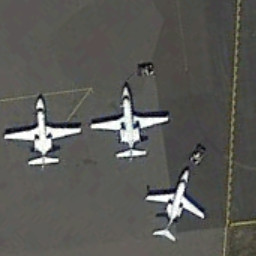Airplane: (88, 82, 172, 164), (1, 92, 85, 170), (144, 166, 210, 244)
